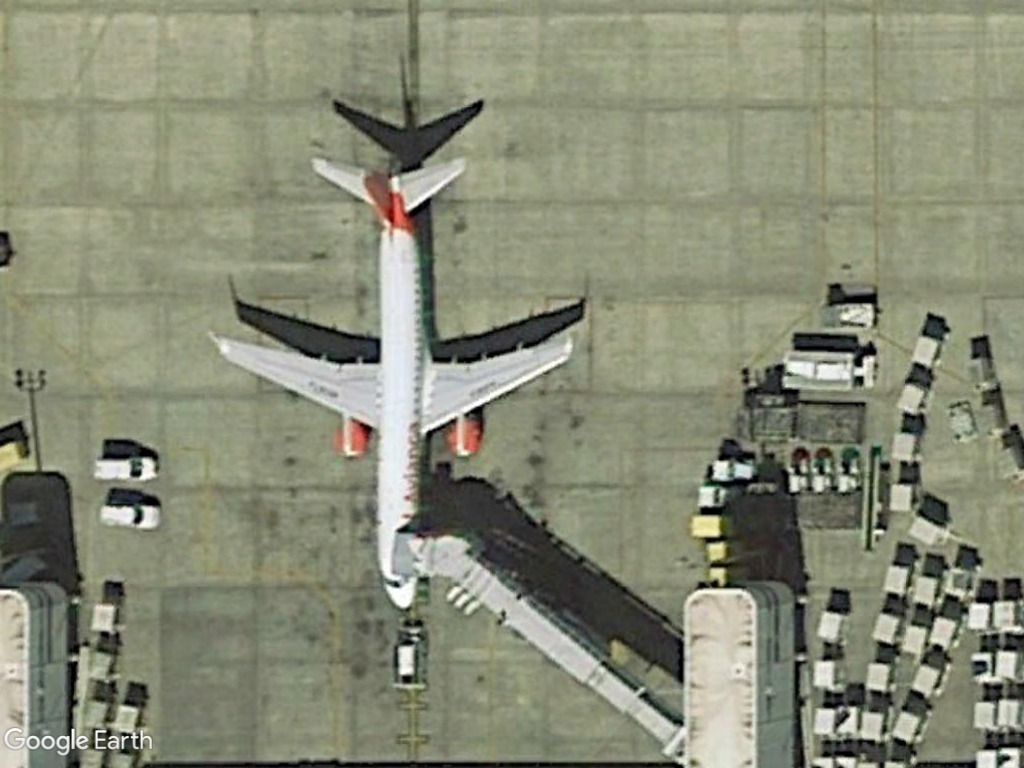airliner: (207, 149, 578, 618)
car: (94, 498, 166, 536), (90, 453, 164, 489)
